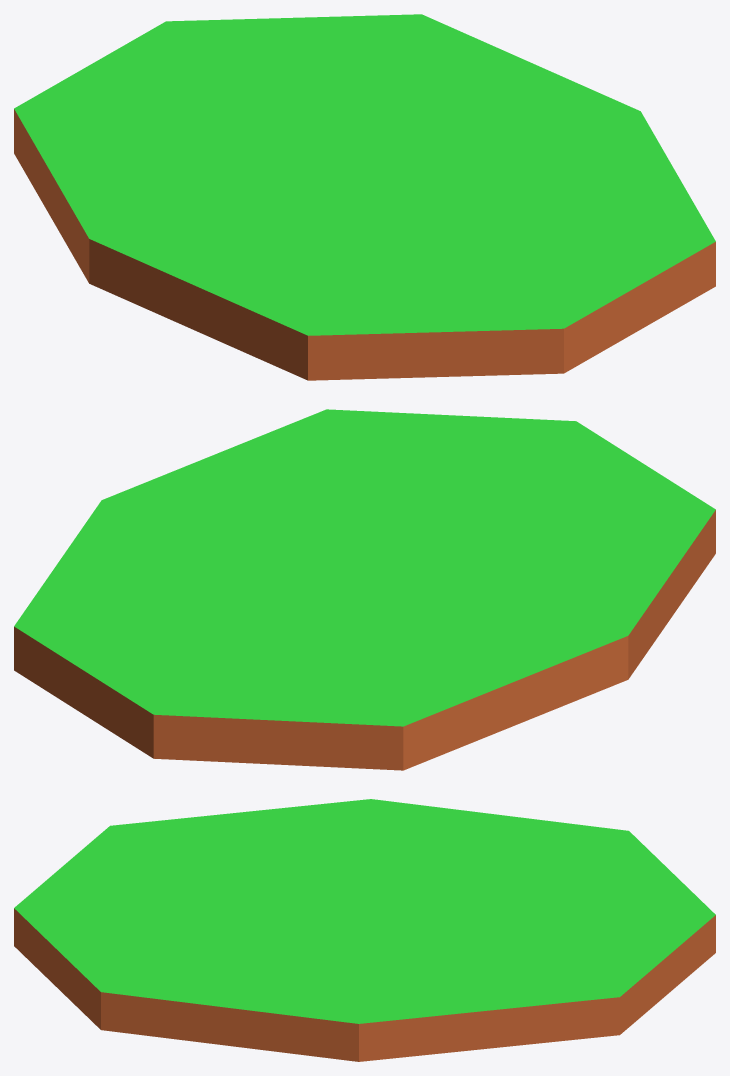
Rendered from Level 2 Blocking.fbx.
3 renders of one model, top to bottom at view 1: azimuth 30°, elevation 25°; view 2: azimuth 150°, elevation 25°; view 3: azimuth 270°, elevation 25°, orthographic. The views are drawn at different scales.
Visible parts, largest first — view 1: Isla.003; view 2: Isla.003; view 3: Isla.003.
Part boxes in pixels (box(x1,y1,x2,y2)): Isla.003: box(14, 14, 715, 380); Isla.003: box(14, 409, 715, 770); Isla.003: box(14, 799, 715, 1061).
Size of the model in its own units: 4708 by 3570 by 281.
